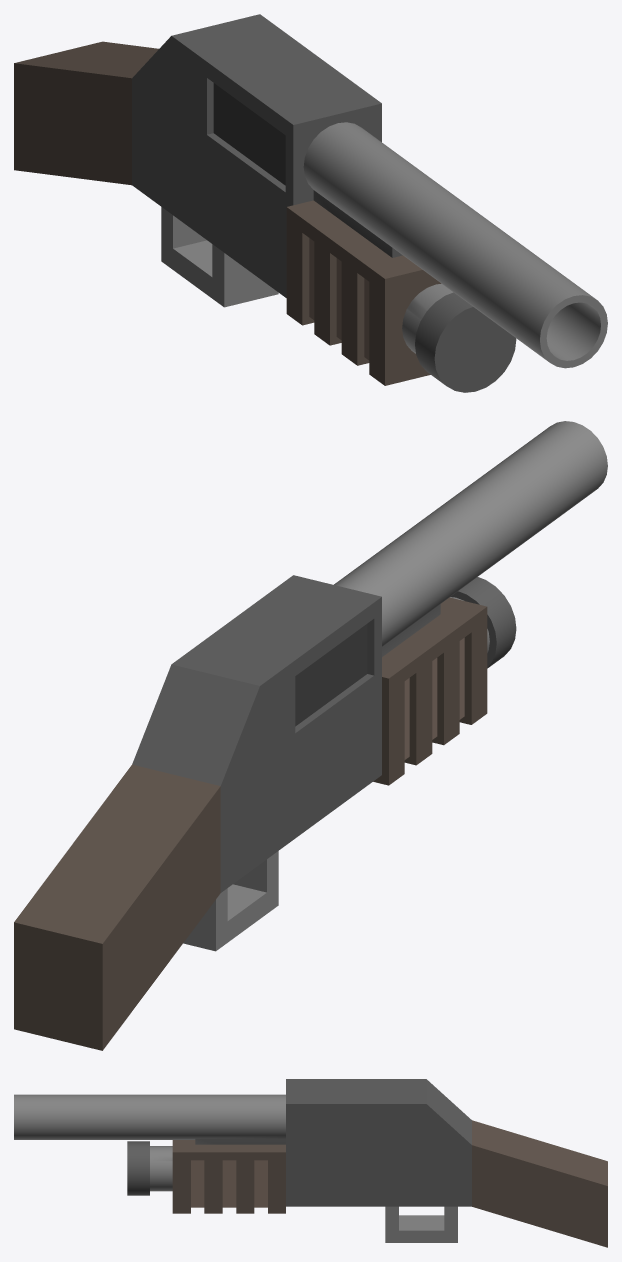
File: shotgunShort.obj
The picture shows the model from 3 angles, top to bottom: view 1: azimuth 30°, elevation 25°; view 2: azimuth 150°, elevation 25°; view 3: azimuth 270°, elevation 25°; orthographic projection. The views are drawn at different scales.
Parts seen in each view (by area): view 1: Mesh1 Group2 Group1 Model, Mesh2 Group3 Group1 Model; view 2: Mesh1 Group2 Group1 Model, Mesh2 Group3 Group1 Model; view 3: Mesh1 Group2 Group1 Model, Mesh2 Group3 Group1 Model.
Part boxes in pixels (x1,y1,x2,y2): Mesh1 Group2 Group1 Model: [14, 14, 607, 392]; Mesh2 Group3 Group1 Model: [286, 200, 441, 385]; Mesh1 Group2 Group1 Model: [14, 421, 607, 1050]; Mesh2 Group3 Group1 Model: [373, 597, 487, 785]; Mesh1 Group2 Group1 Model: [14, 1079, 607, 1247]; Mesh2 Group3 Group1 Model: [172, 1140, 285, 1213].
Bounding box in the file's own units: 0.009 × 0.021 × 0.0786.
